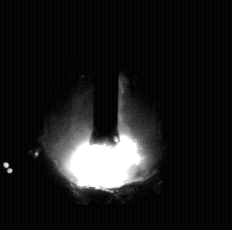arame: (94, 0, 119, 147)
poca: (43, 0, 158, 230)
